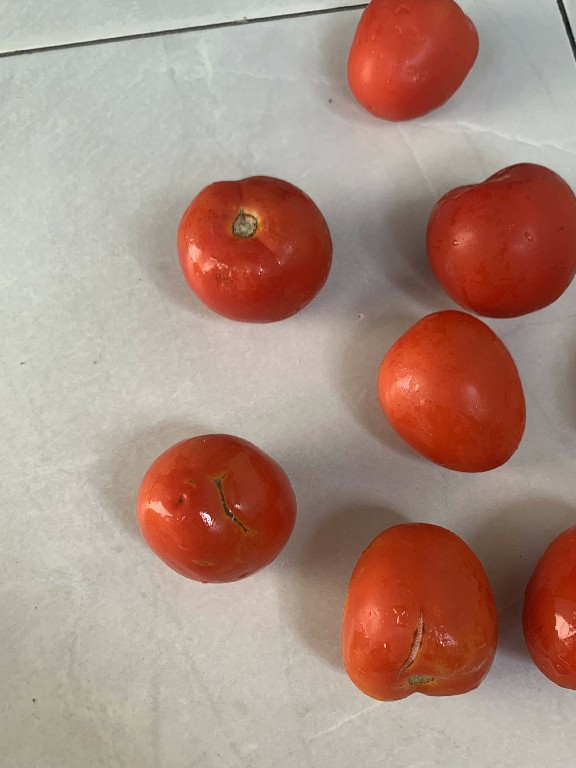NG: (334, 515, 513, 724), (132, 431, 301, 593)
OK: (170, 168, 337, 332), (371, 308, 528, 473), (424, 151, 576, 319), (332, 2, 487, 124)
